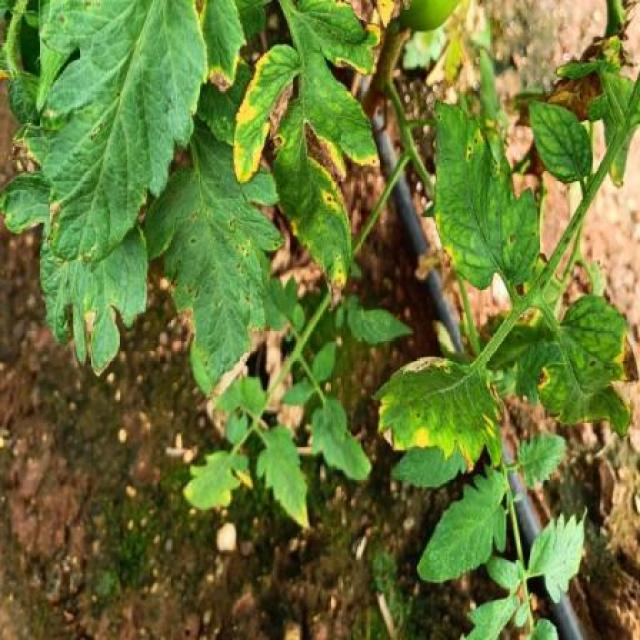Early Blight: (228, 0, 381, 314), (154, 172, 286, 415), (429, 92, 545, 294), (370, 350, 510, 480), (533, 292, 640, 444)
